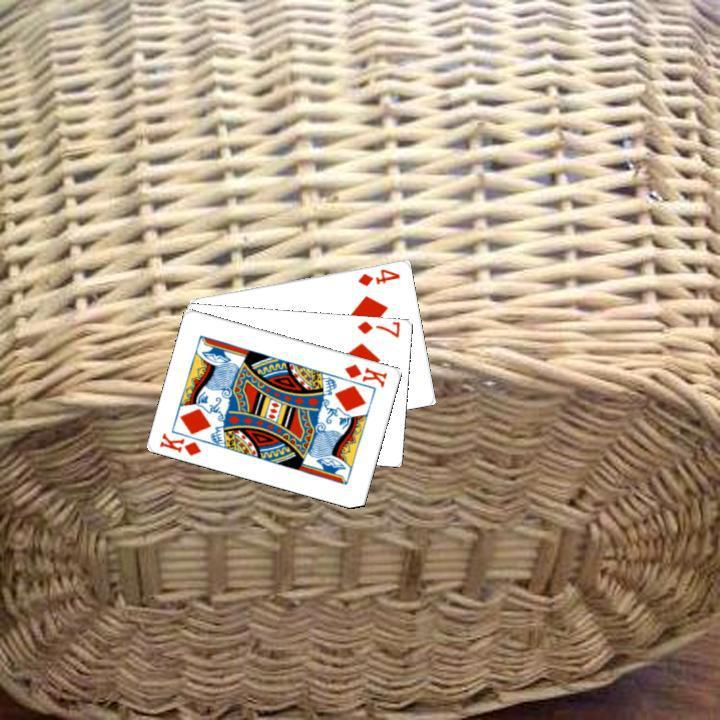4: (354, 264, 402, 288)
7: (353, 317, 402, 339)
K: (340, 359, 390, 389), (155, 428, 204, 458)
